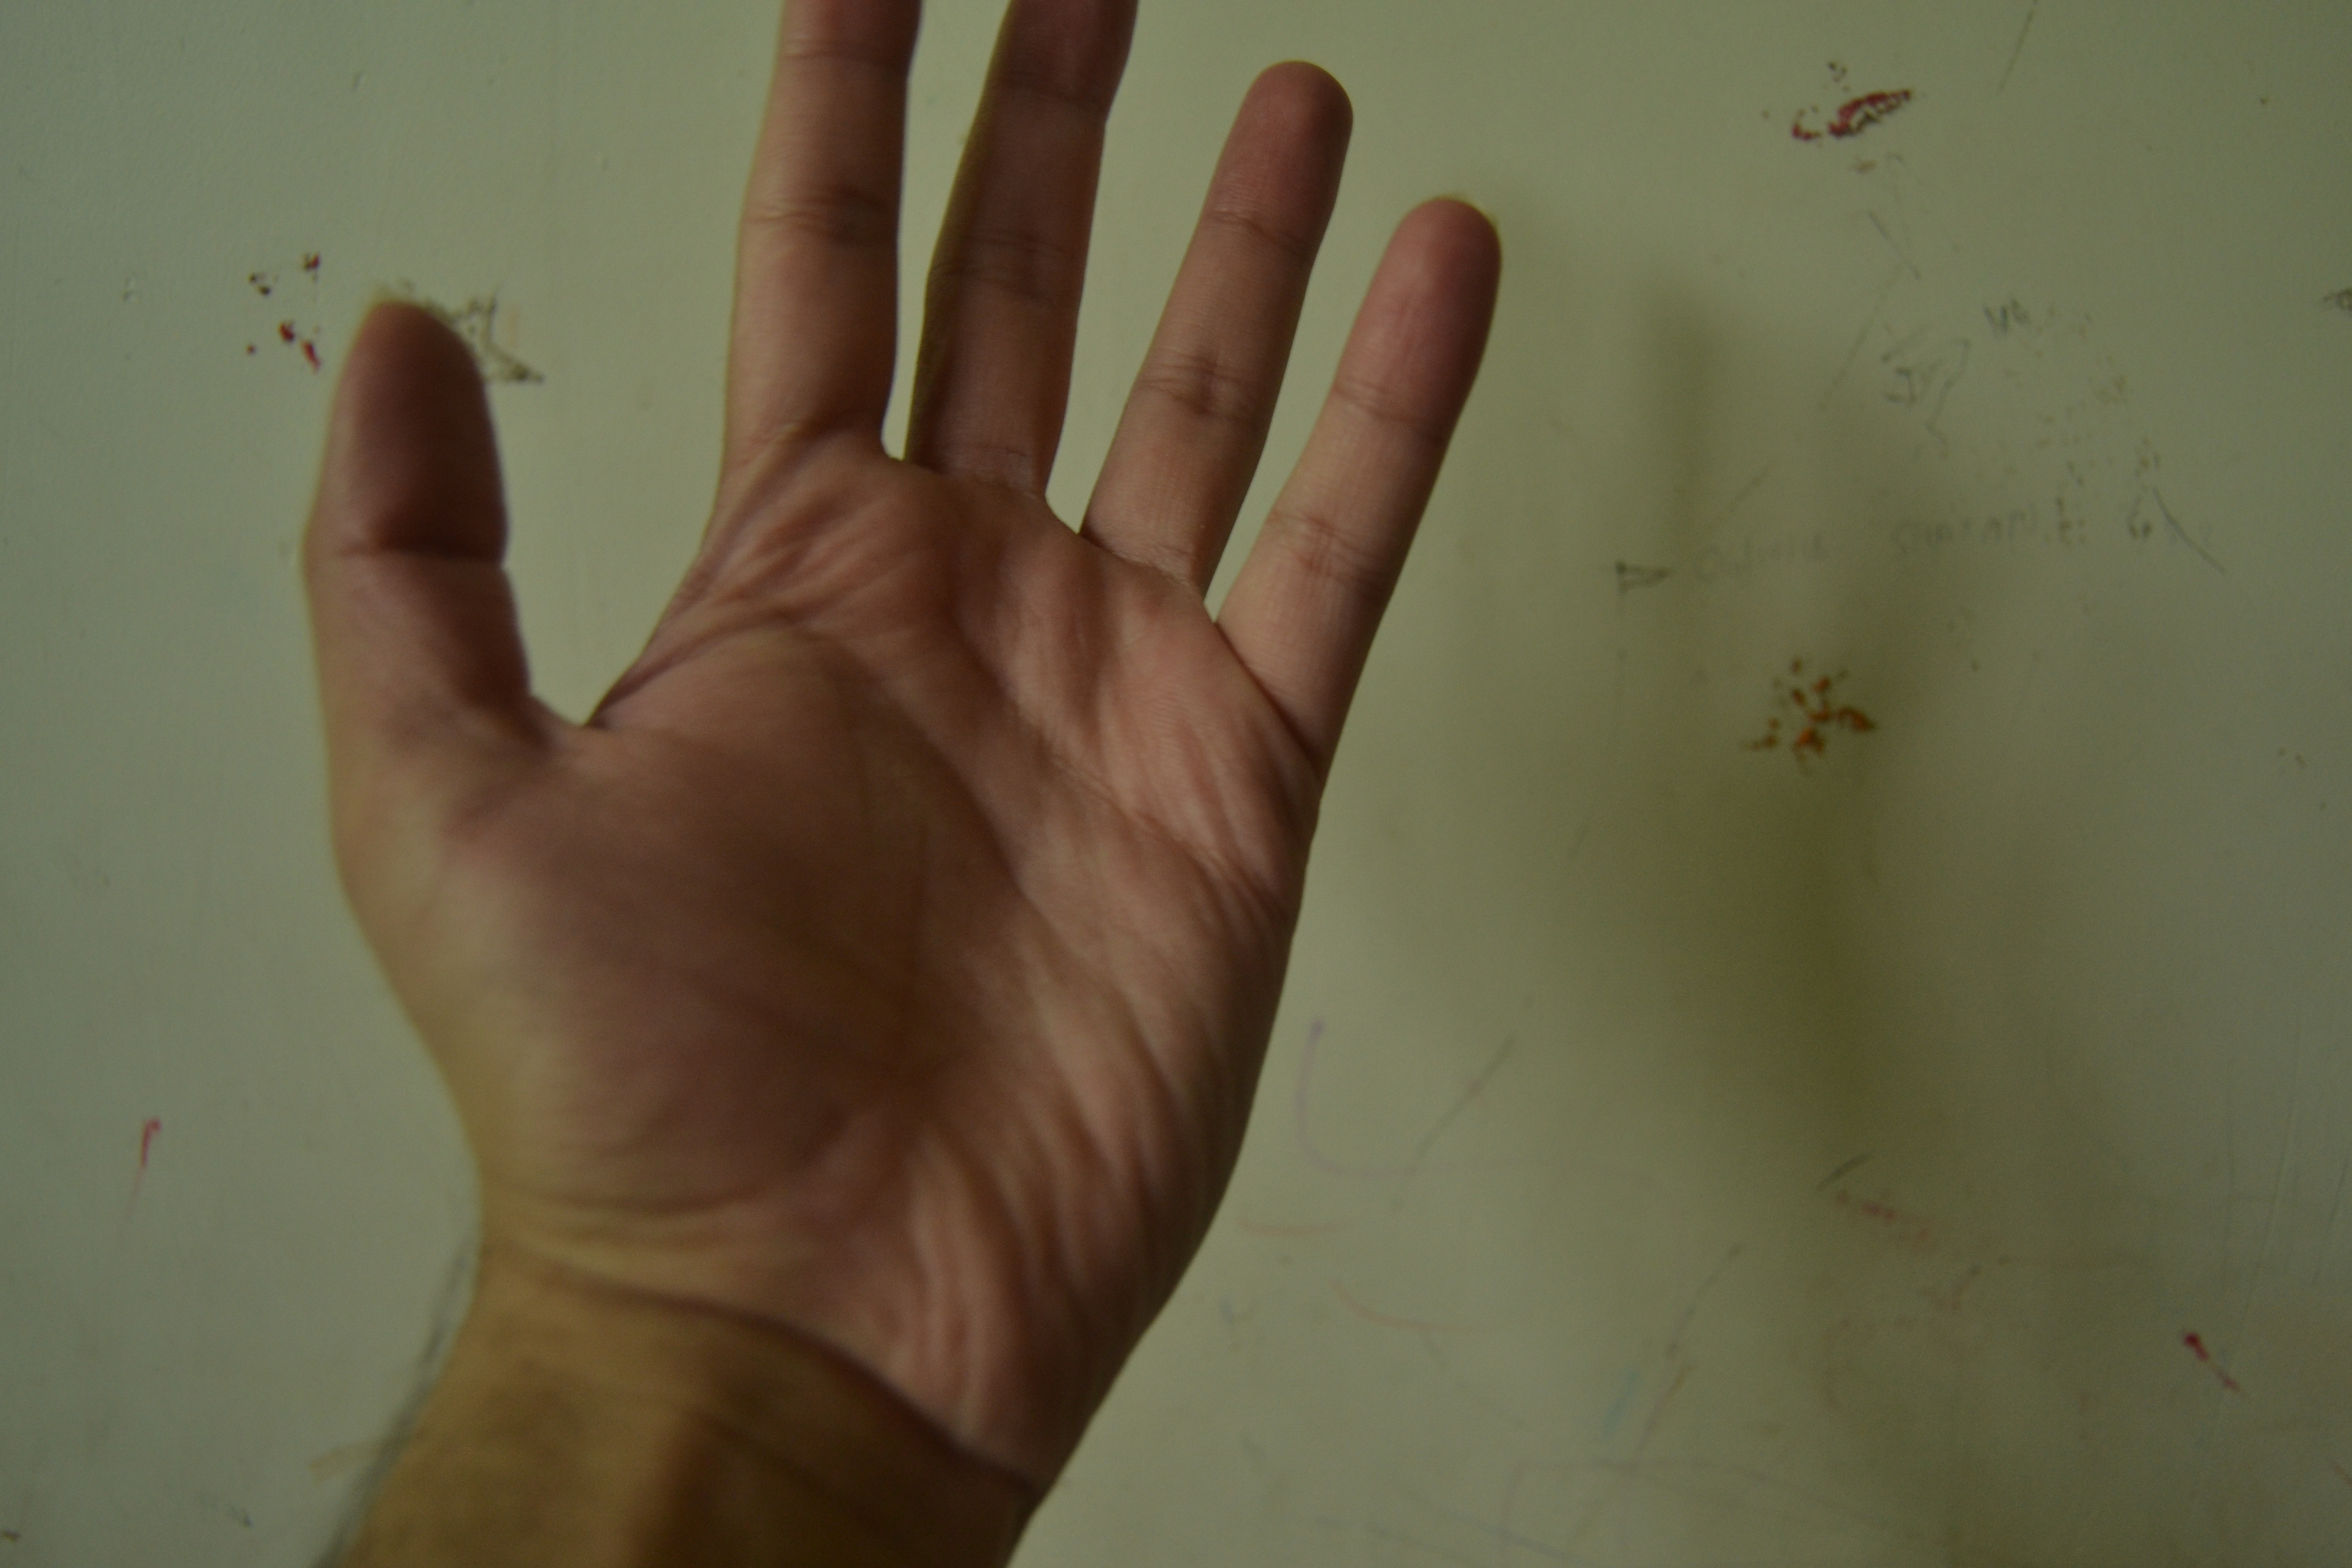move: (184, 9, 1536, 1405)
